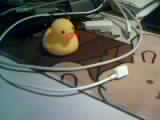duck: (42, 16, 76, 54)
